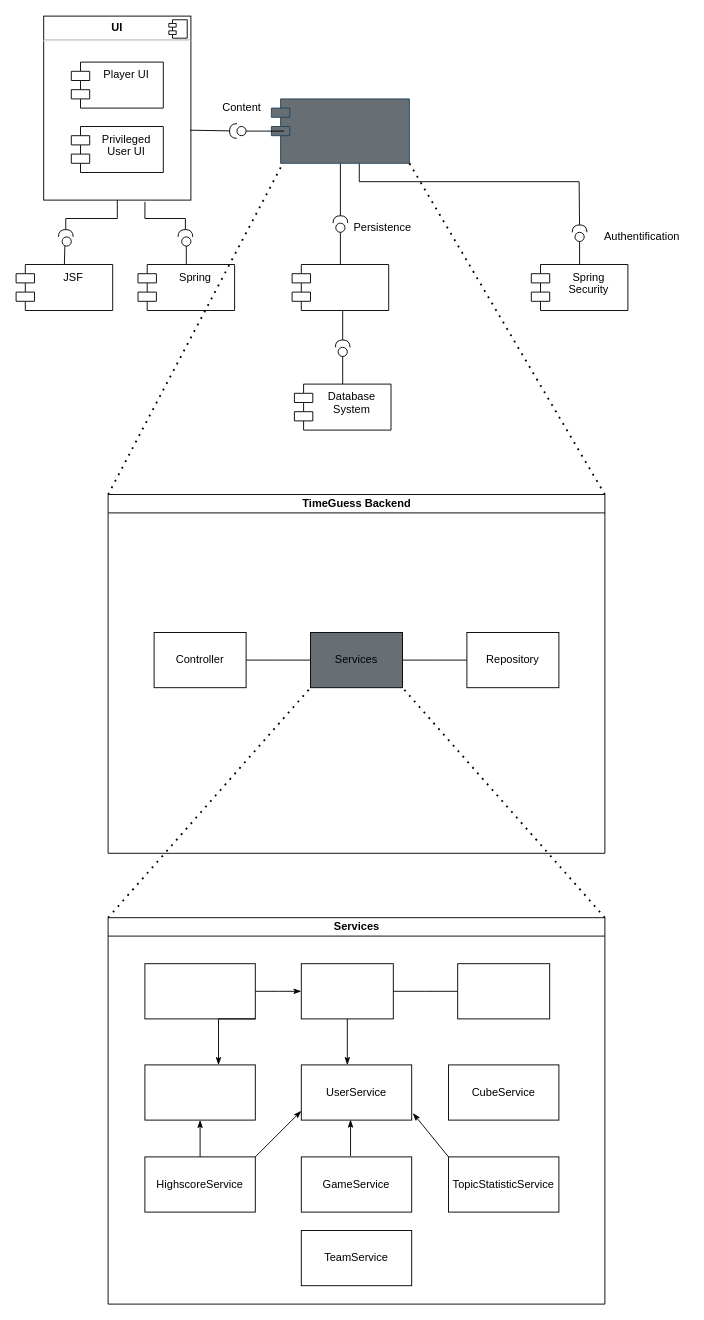
Image size: 704x1320. Some labels were removed from this diagram. Here are the shapes that lost their labels. From the top down, the centre of each, then its label:
At (339,130): "TimeGuess Backend Business Logic".
At (340,287): "JPA / Spring Data".
At (199,991): "GameLogicService".
At (346,991): "TermService".
At (503,991): "User Service".
At (199,1092): "RoundService".
